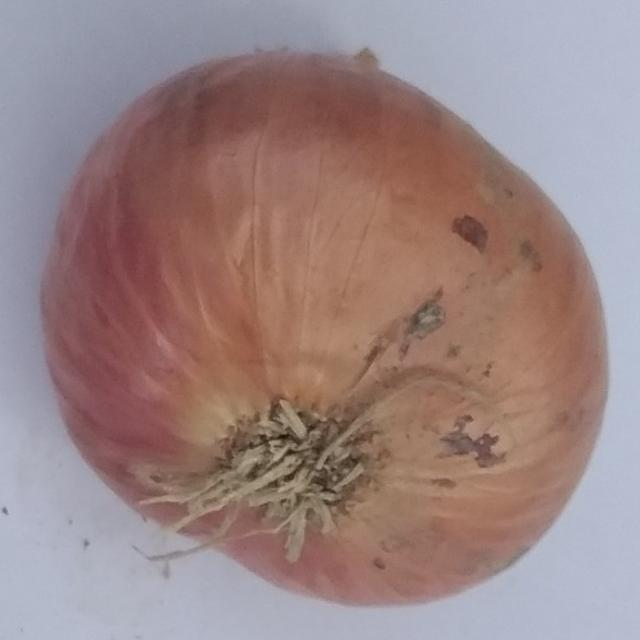onion: (38, 45, 616, 609)
